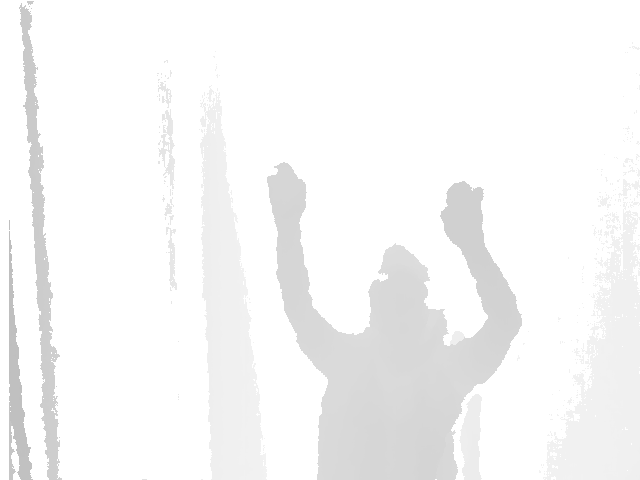hand: (440, 181, 485, 245), (265, 163, 306, 220)
head: (368, 245, 431, 342)
person: (265, 163, 523, 480)
